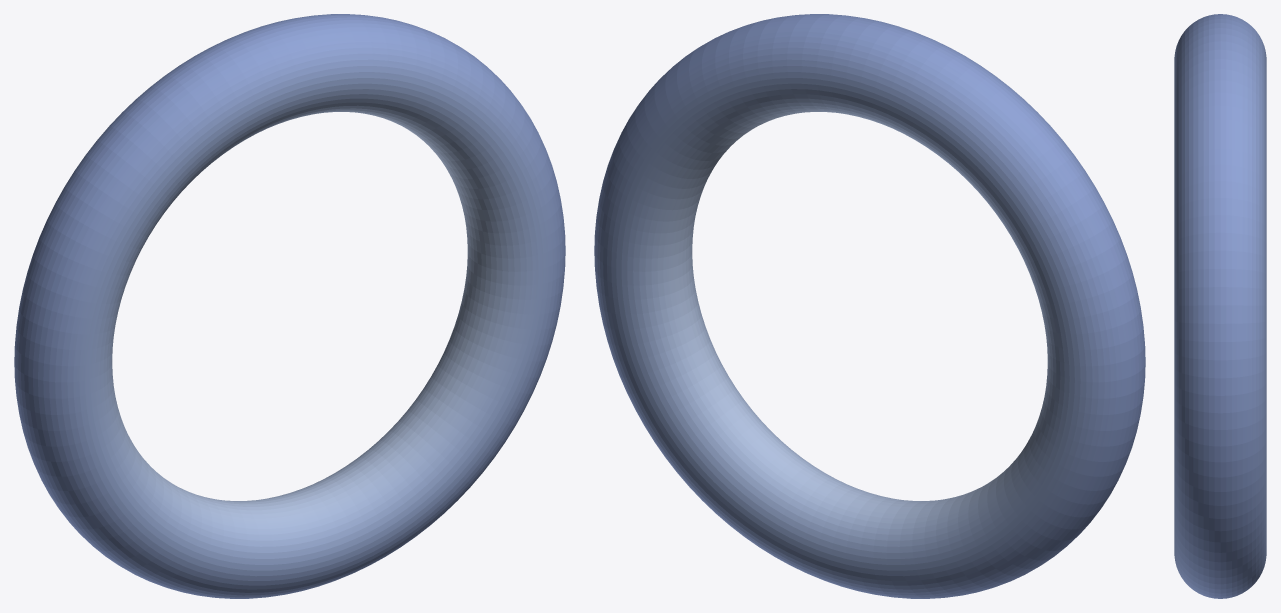
3 views of the same model, side by side, from view 1: azimuth 30°, elevation 25°; view 2: azimuth 150°, elevation 25°; view 3: azimuth 270°, elevation 25° (orthographic). The views are drawn at different scales.
Visible parts, largest first — view 1: world; view 2: world; view 3: world.
Boxes of the visible parts, left/top/right/bottom form: world: left=14, top=14, right=565, bottom=598; world: left=594, top=14, right=1145, bottom=598; world: left=1174, top=14, right=1266, bottom=598.
Bounding box in the file's own units: 24.53 × 24.53 × 3.86.
